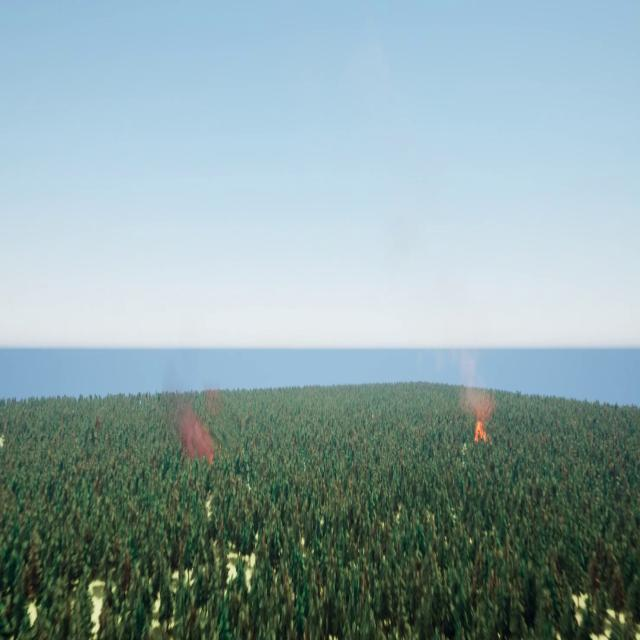fire: (475, 419, 486, 441)
smoke: (169, 375, 225, 468), (461, 361, 499, 424)
